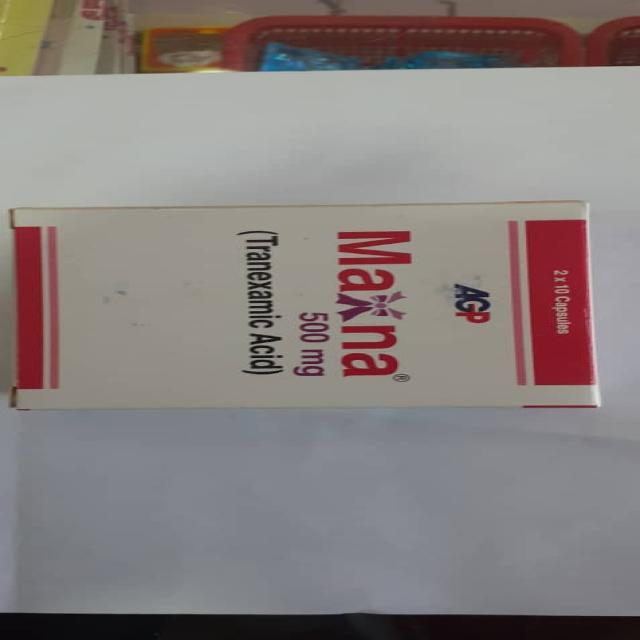drug-name: (336, 224, 412, 376)
